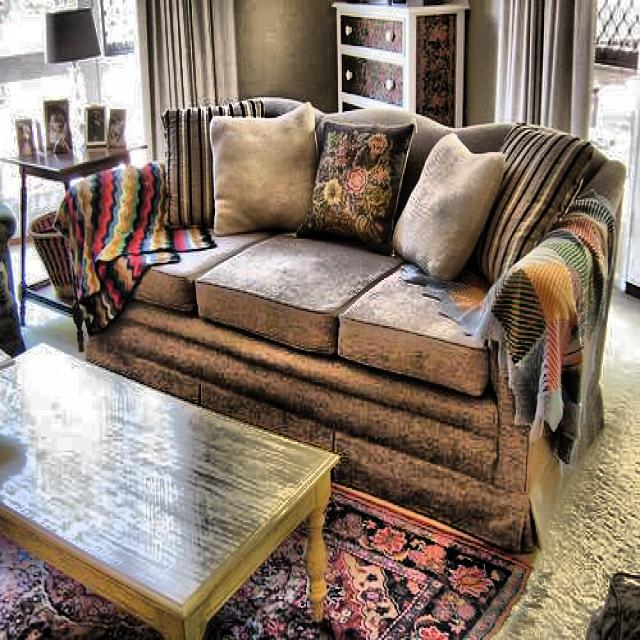sofa: (29, 99, 627, 553)
